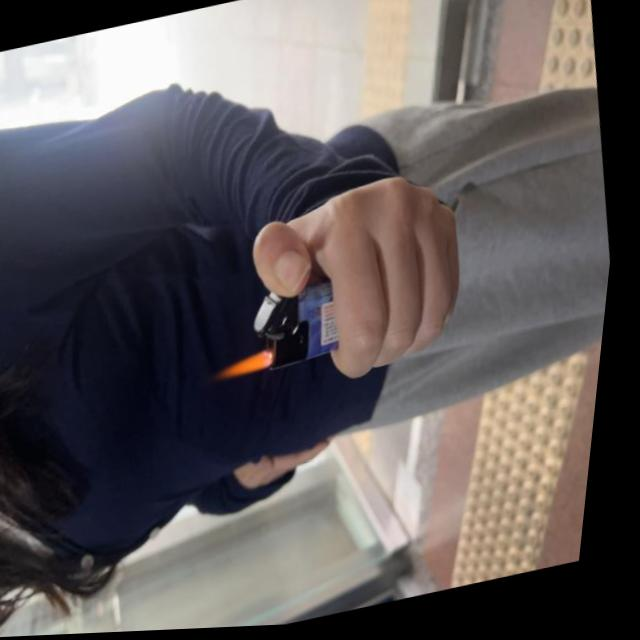Fire: (227, 349, 282, 380)
